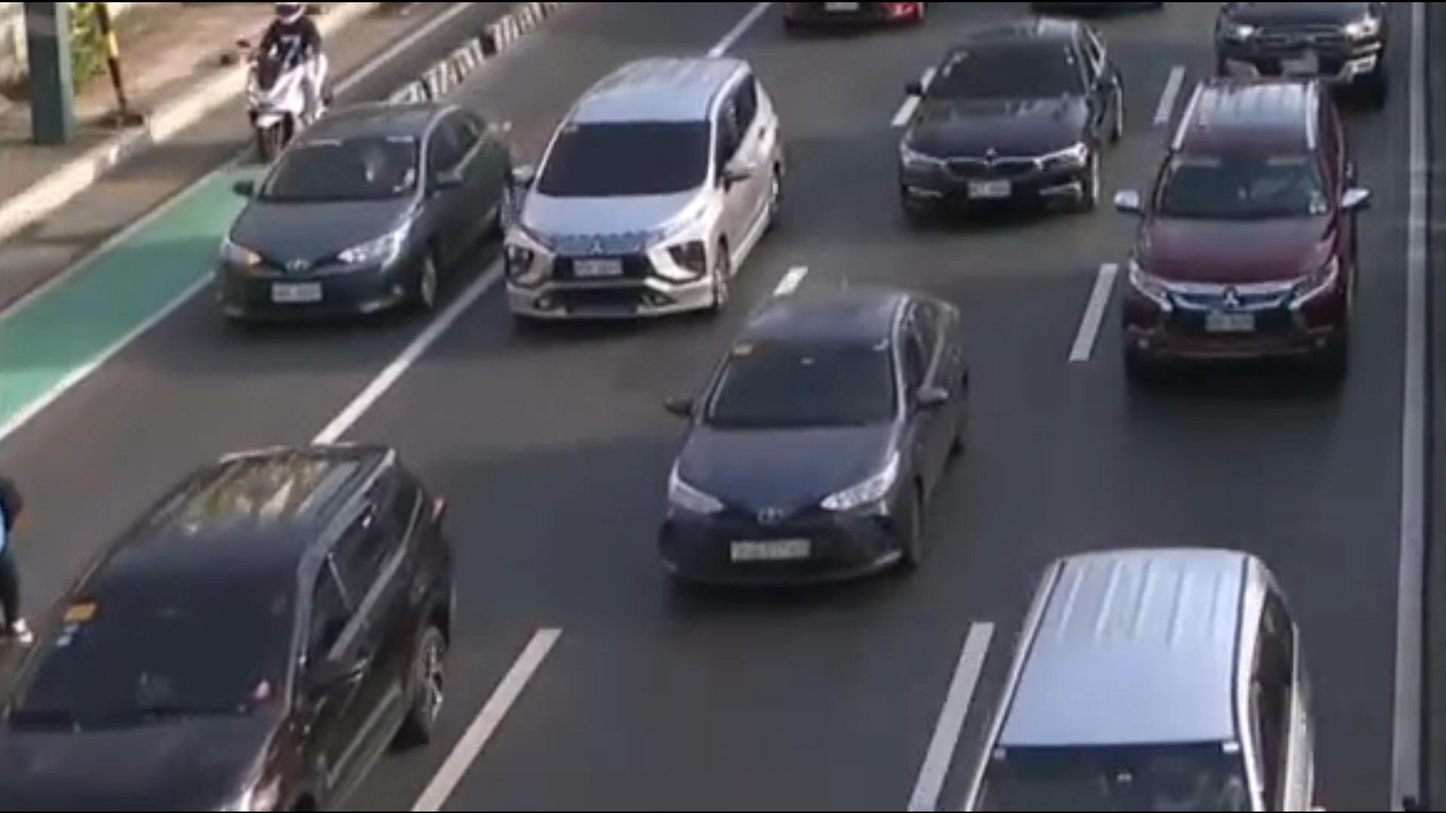SUV: (0, 438, 454, 813), (964, 544, 1316, 813), (495, 55, 793, 327), (1110, 75, 1361, 391)
Sedan: (655, 290, 975, 600), (208, 107, 508, 338), (892, 17, 1118, 224), (1213, 0, 1396, 83)
